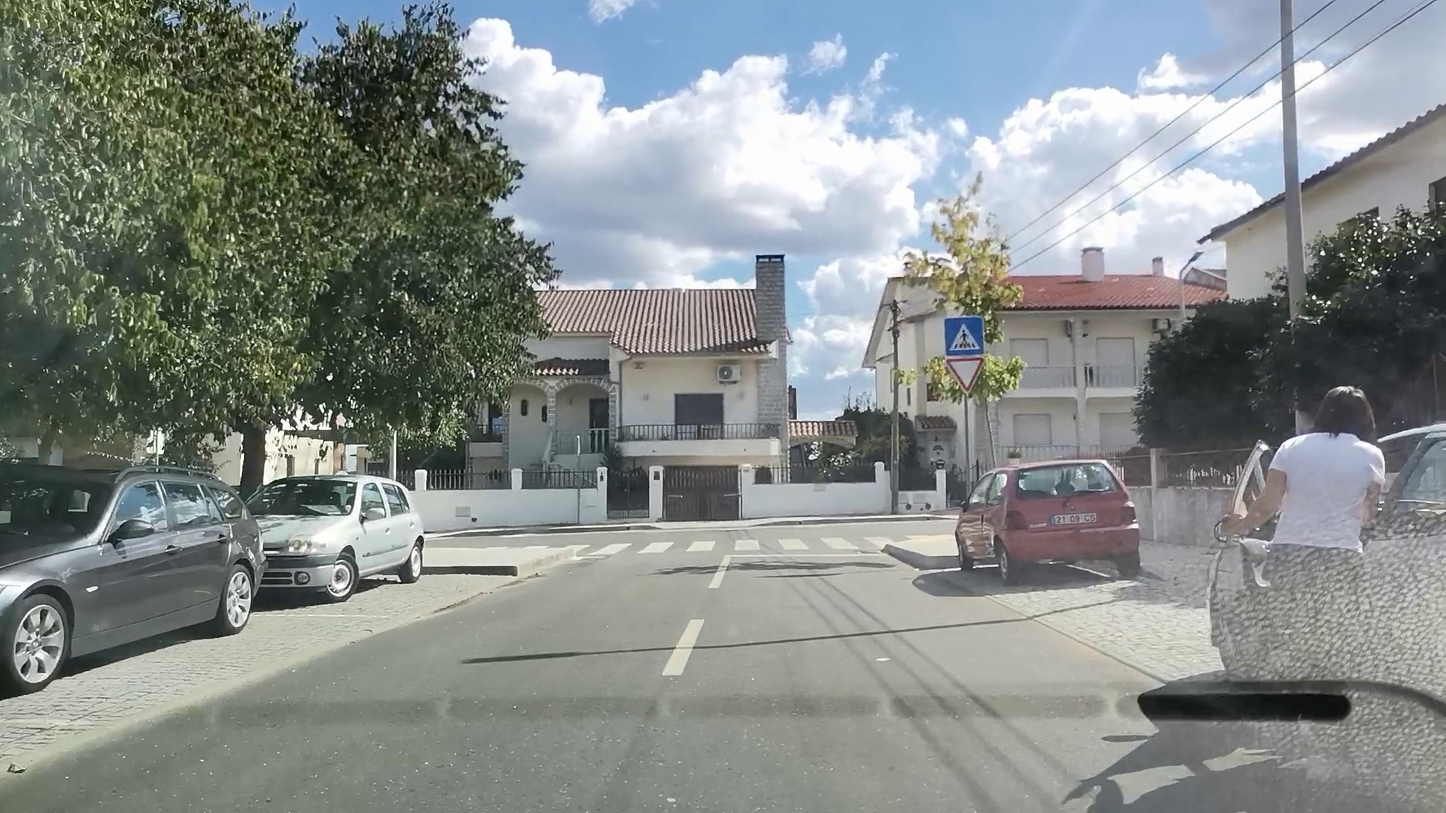Stairs: (588, 536, 892, 555)
